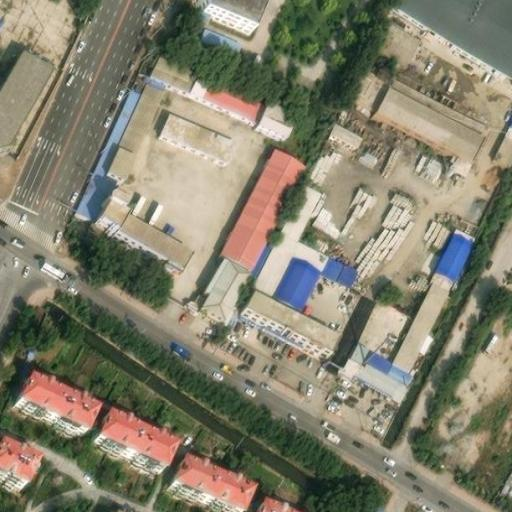building: (342, 224, 473, 389), (74, 75, 167, 216), (254, 174, 357, 299), (220, 141, 307, 261), (375, 82, 485, 168), (150, 44, 265, 114), (89, 189, 184, 273), (13, 368, 97, 429), (169, 451, 253, 512), (92, 408, 175, 469), (242, 292, 330, 349), (160, 105, 233, 153), (202, 246, 253, 314), (342, 62, 390, 115), (198, 0, 262, 27), (255, 91, 300, 129), (0, 436, 36, 483), (194, 24, 243, 58), (321, 117, 363, 153), (408, 148, 446, 183), (492, 112, 512, 161), (252, 497, 292, 512)
